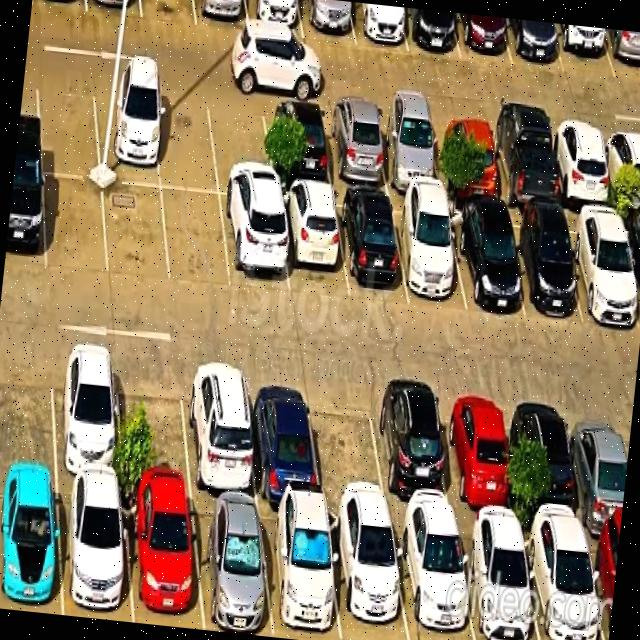empty: (307, 377, 388, 513), (116, 353, 191, 493), (0, 341, 55, 475), (207, 92, 274, 199), (161, 189, 230, 288), (153, 87, 218, 192), (103, 182, 169, 284), (36, 73, 100, 177), (44, 174, 108, 275), (140, 0, 196, 26)
occupied: (189, 495, 273, 637), (368, 383, 455, 520), (122, 488, 203, 629), (258, 503, 341, 640), (437, 387, 516, 527), (327, 509, 408, 640), (58, 480, 132, 622), (182, 361, 257, 500), (245, 368, 321, 504), (512, 393, 585, 531), (391, 519, 474, 640), (51, 345, 122, 484), (456, 522, 539, 640), (521, 527, 603, 640), (562, 211, 640, 326), (446, 206, 524, 317), (0, 475, 61, 615), (391, 198, 466, 311), (502, 211, 581, 317), (566, 399, 627, 533), (335, 192, 408, 301), (277, 187, 348, 298), (92, 80, 160, 186), (220, 197, 289, 294), (486, 119, 559, 209), (262, 99, 332, 187), (431, 114, 500, 201), (321, 103, 389, 190), (373, 108, 442, 193), (547, 123, 614, 209), (4, 166, 45, 270), (585, 532, 619, 640), (551, 23, 615, 78), (600, 127, 640, 210), (504, 18, 563, 71), (453, 12, 512, 64), (400, 7, 460, 58), (348, 1, 407, 51), (299, 0, 354, 42), (245, 0, 303, 38), (619, 215, 640, 314), (601, 28, 640, 80), (193, 0, 249, 33), (86, 0, 141, 17), (31, 0, 86, 11)
